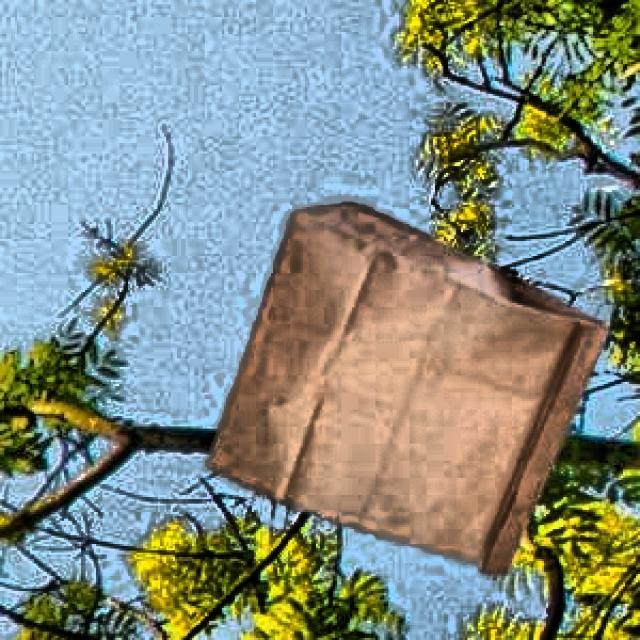Paper-bag: (190, 198, 605, 592)
